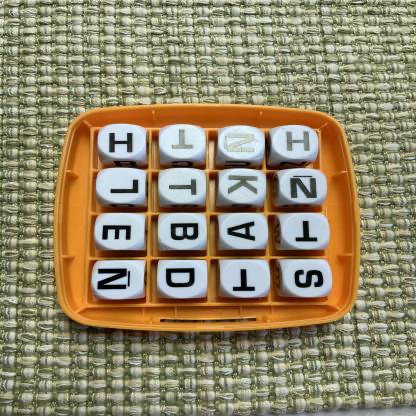a: (221, 214, 270, 250)
b: (159, 214, 207, 251)
d: (158, 263, 207, 300)
e: (96, 215, 144, 251)
h: (99, 125, 146, 160), (274, 126, 320, 160)
k: (220, 170, 267, 204)
l: (97, 169, 146, 204)
n: (92, 262, 145, 301), (281, 169, 328, 204), (219, 126, 266, 161)
s: (285, 260, 333, 298)
t: (222, 261, 270, 299), (283, 214, 331, 251), (160, 170, 207, 204), (159, 126, 206, 159)
